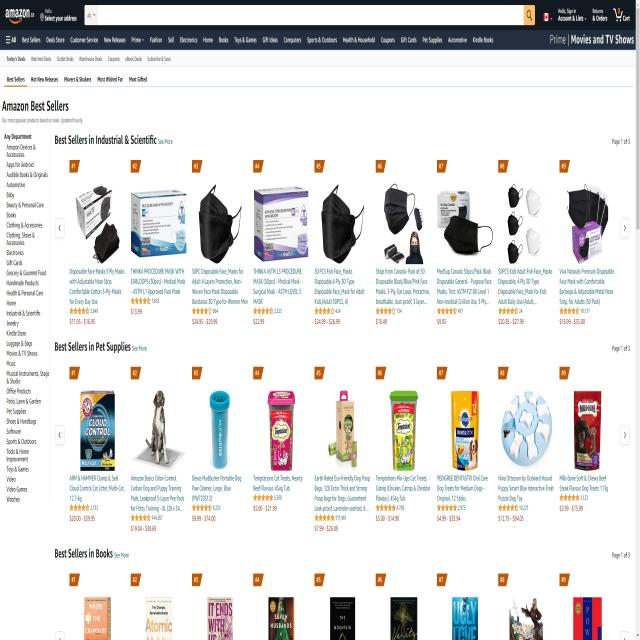menu-bar: (19, 29, 496, 48)
search: (83, 2, 537, 27)
tab-bar: (5, 67, 154, 88)
